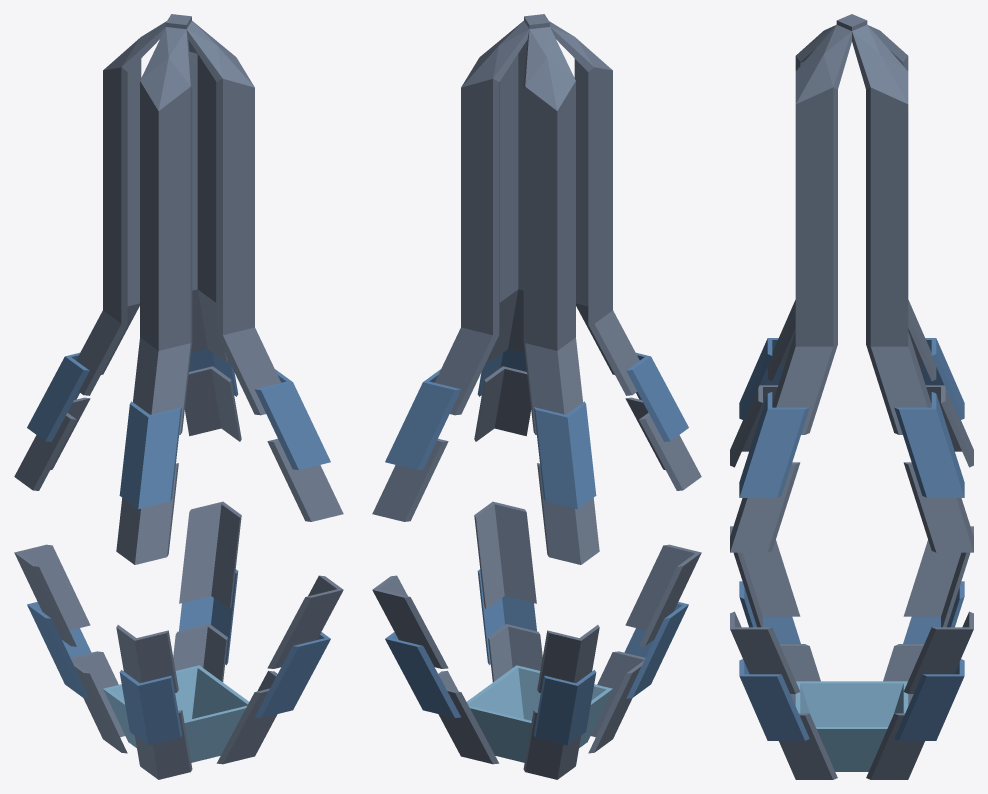
The model's file is portal.glb.
The picture shows the model from 3 angles, left to right: view 1: azimuth 30°, elevation 25°; view 2: azimuth 150°, elevation 25°; view 3: azimuth 270°, elevation 25°; orthographic projection.
Parts seen in each view (by area): view 1: structure; view 2: structure; view 3: structure.
Boxes of the visible parts, left/top/right/bottom form: structure: left=14, top=14, right=343, bottom=779; structure: left=372, top=14, right=701, bottom=779; structure: left=730, top=14, right=973, bottom=779.
Size of the model in its own units: 4.33 by 14.43 by 4.33.
